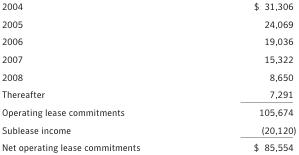table: (0, 0, 295, 152)
table column: (0, 0, 196, 152), (196, 0, 295, 152)
table row: (0, 14, 295, 32), (0, 49, 295, 67), (0, 67, 295, 85), (0, 102, 295, 120), (0, 120, 295, 138), (0, 32, 295, 49), (0, 85, 295, 102), (0, 0, 295, 14), (0, 138, 295, 152)
